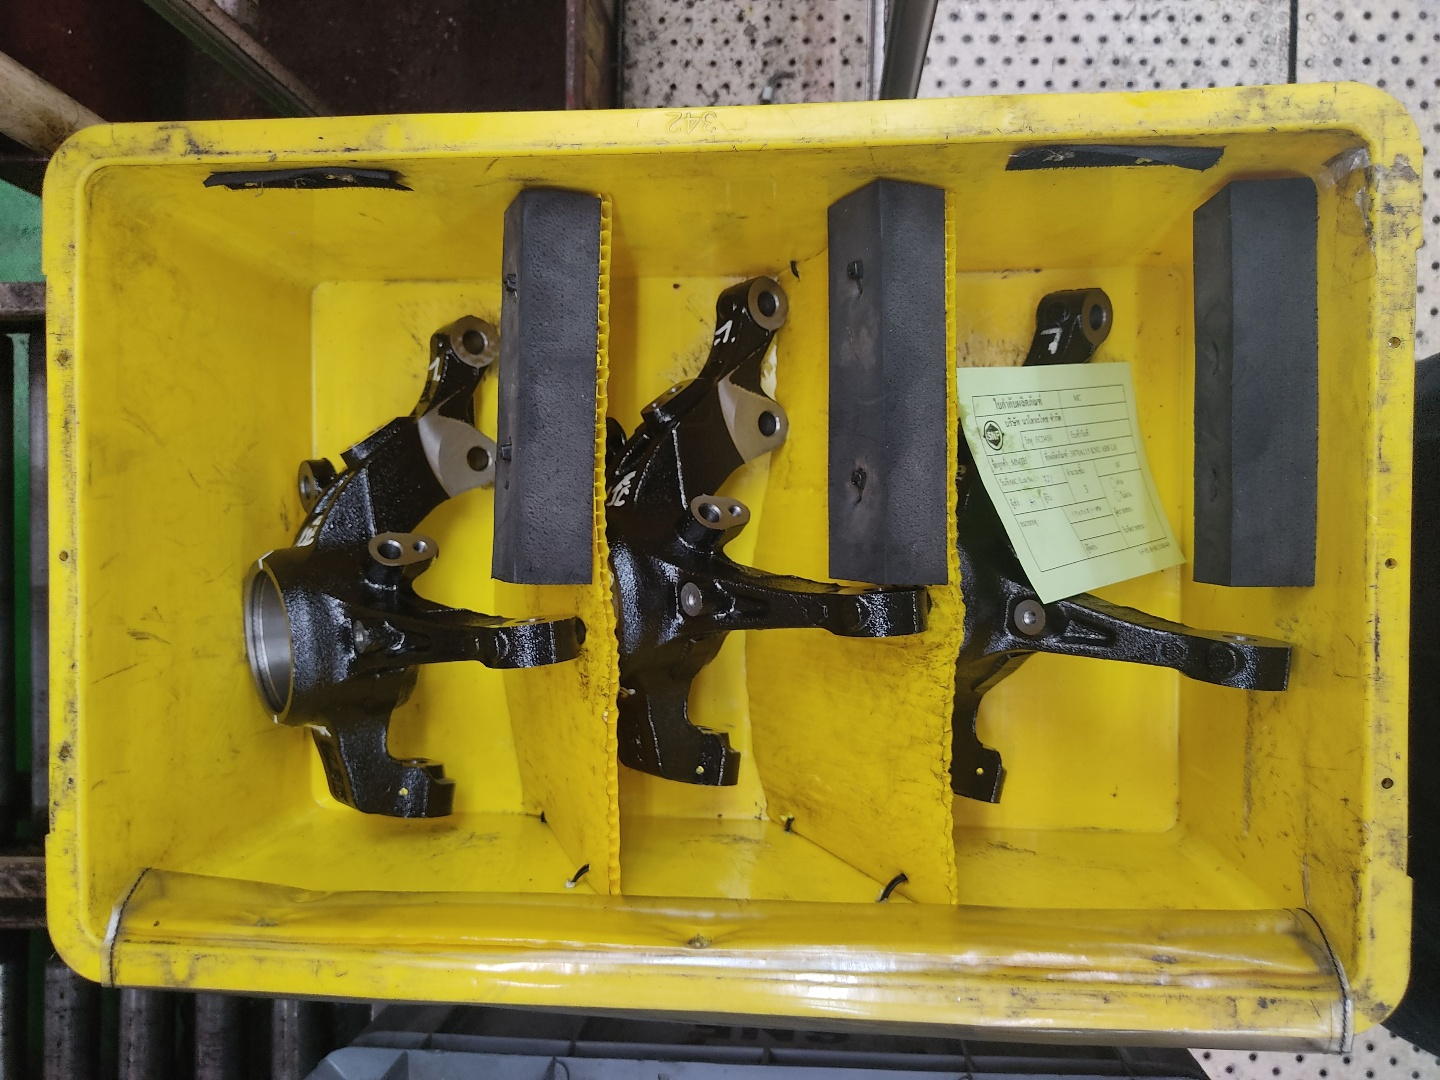abs-lh: (235, 303, 596, 827), (950, 278, 1303, 809), (604, 273, 942, 796)
